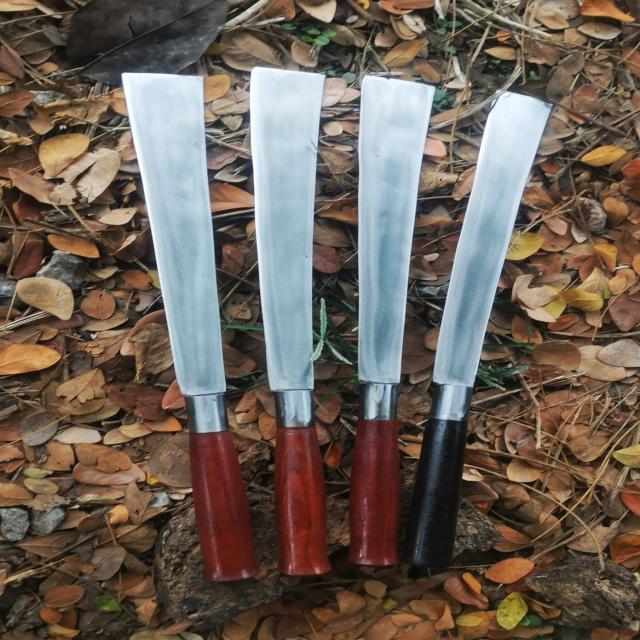eto: (391, 85, 572, 567), (113, 63, 266, 588), (349, 64, 452, 576), (244, 64, 334, 576)
